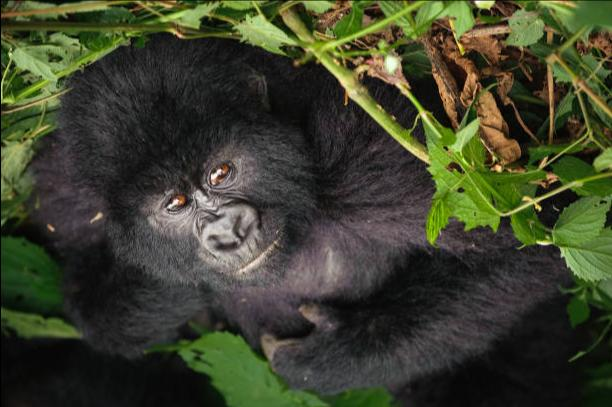goriile_montagne: (21, 40, 606, 407)
